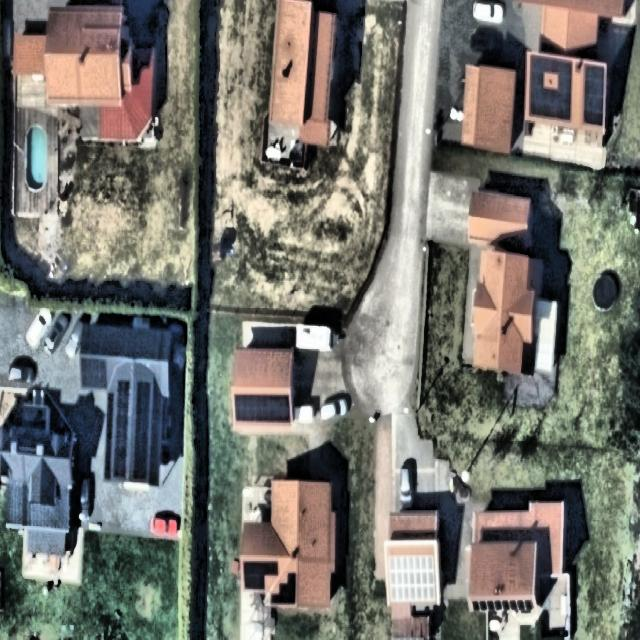roof_pv: (389, 556, 438, 610), (234, 392, 290, 430), (578, 62, 607, 130), (111, 377, 130, 480), (527, 85, 574, 126), (133, 381, 151, 480), (529, 50, 575, 76), (82, 352, 111, 393), (270, 569, 298, 606), (244, 558, 265, 594), (530, 66, 546, 98), (558, 70, 574, 94), (265, 554, 278, 582)
